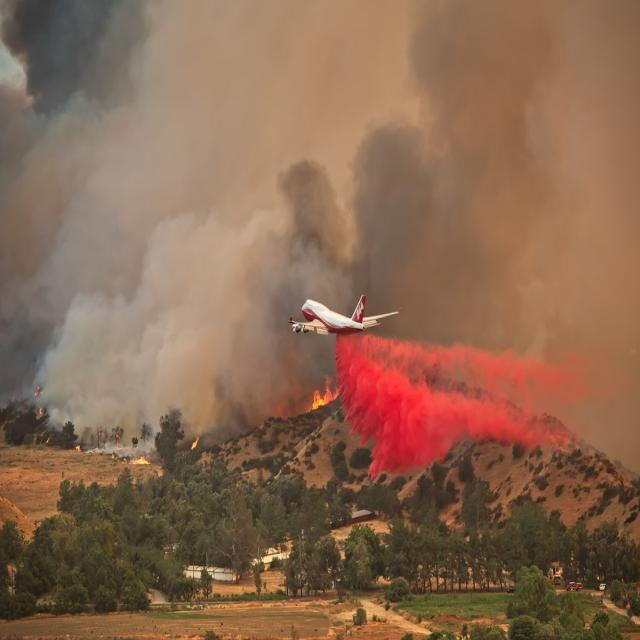Smoke: (0, 0, 539, 400)
